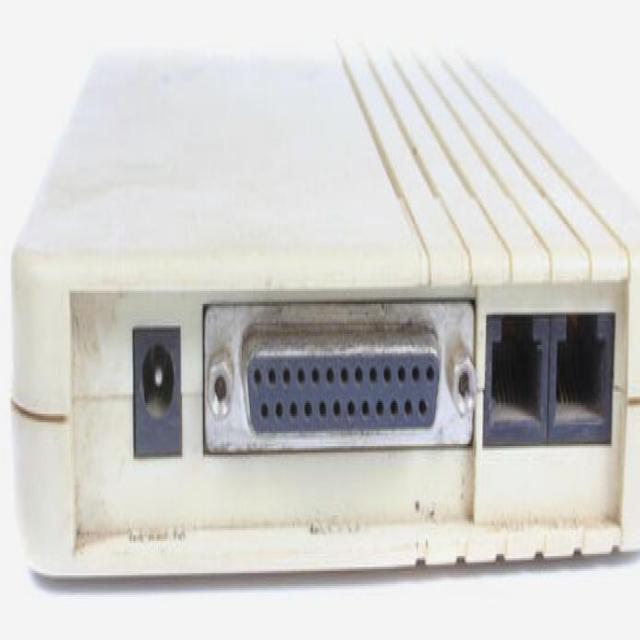electronic: (9, 32, 639, 584)
